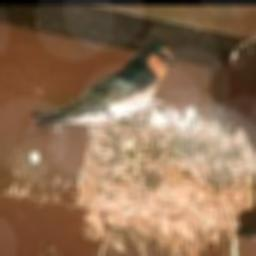Swallow: (31, 43, 175, 128)
